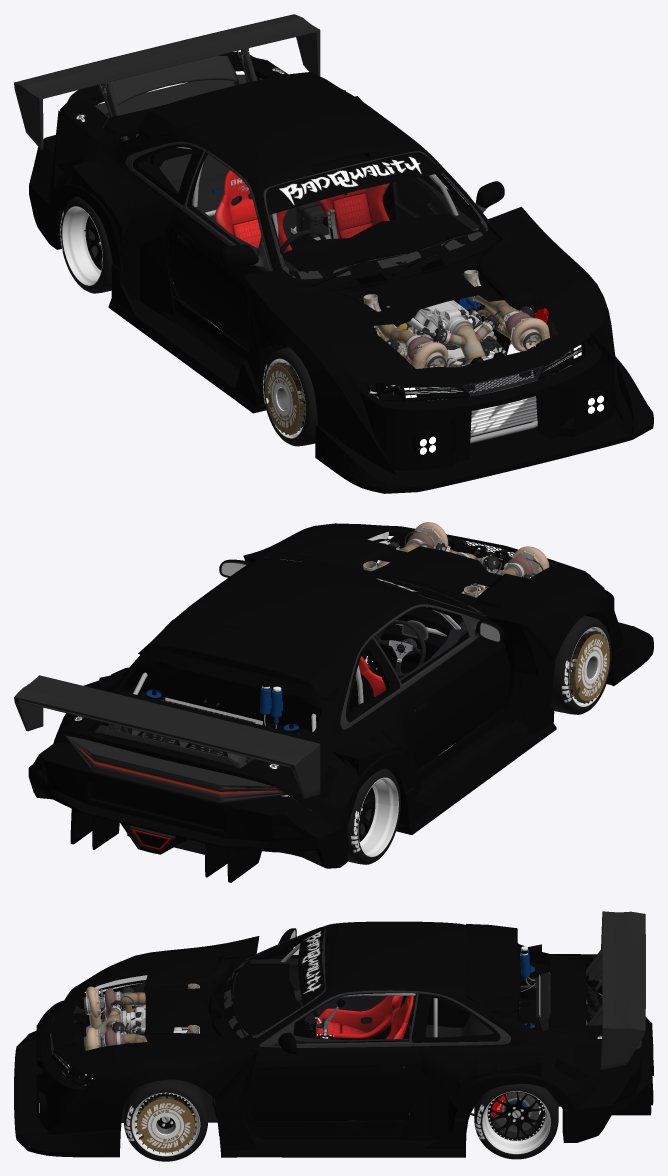
Rendered from nissan_s14_drift.glb.
The picture shows the model from 3 angles, top to bottom: view 1: azimuth 30°, elevation 25°; view 2: azimuth 150°, elevation 25°; view 3: azimuth 270°, elevation 25°; orthographic projection. The views are drawn at different scales.
Parts seen in each view (by area): view 1: frontend_20, _S14KOUKI_BODY_CARPAINT_233, glassf_a_SUB1_64, _S14KOUKI_BUMPER_F_DMAX_CARPAINT_232, bug_veyronss_11_lod0_winga_carbon_fiber__SUB0_208, Box012_180, rearfenders_34, Dash_190, sideskirt_76, roofspoiler_201, glassflivery_a_SUB1_218, body_a_41 (+34 smaller); view 2: _S14KOUKI_BODY_CARPAINT_233, frontend_20, rearbumper_234, bug_veyronss_11_lod0_winga_carbon_fiber__SUB0_208, roofspoiler_201, rearfenders_34, body_a_SUB5_174, taillighthousing_101, sideskirt_76, Box013_102, Box014_3, _S14KOUKI_SKIRT_CARPAINT_224 (+20 smaller); view 3: _S14KOUKI_BODY_CARPAINT_233, frontend_20, rearfenders_34, bug_veyronss_11_lod0_winga_carbon_fiber__SUB0_208, sideskirt_76, rearbumper_234, Box012_180, glassf_a_SUB1_64, roofspoiler_201, Dash_190, _S14KOUKI_BUMPER_F_DMAX_CARPAINT_232, trunkcover_142 (+36 smaller).
Boxes of the visible parts, x1,y1,x2,y2 form: frontend_20: (243, 207, 623, 475); _S14KOUKI_BODY_CARPAINT_233: (102, 90, 487, 349); glassf_a_SUB1_64: (269, 173, 480, 271); _S14KOUKI_BUMPER_F_DMAX_CARPAINT_232: (359, 334, 614, 470); bug_veyronss_11_lod0_winga_carbon_fiber__SUB0_208: (14, 14, 320, 149); Box012_180: (315, 356, 653, 493); rearfenders_34: (49, 60, 287, 323); Dash_190: (282, 213, 472, 279); sideskirt_76: (108, 263, 266, 413); roofspoiler_201: (135, 72, 345, 141); glassflivery_a_SUB1_218: (266, 152, 442, 214); body_a_41: (294, 230, 488, 290); _S14KOUKI_BODY_CARPAINT_233: (117, 558, 510, 769); frontend_20: (243, 523, 623, 735); rearbumper_234: (28, 743, 347, 882); bug_veyronss_11_lod0_winga_carbon_fiber__SUB0_208: (14, 675, 320, 798); roofspoiler_201: (135, 616, 345, 711); rearfenders_34: (53, 679, 422, 827); body_a_SUB5_174: (102, 654, 336, 734); taillighthousing_101: (65, 735, 287, 802); sideskirt_76: (396, 695, 556, 834); Box013_102: (60, 716, 288, 786); Box014_3: (83, 667, 408, 776); _S14KOUKI_SKIRT_CARPAINT_224: (415, 696, 511, 798); _S14KOUKI_BODY_CARPAINT_233: (247, 921, 573, 1120); frontend_20: (45, 936, 260, 1146); rearfenders_34: (400, 954, 608, 1144); bug_veyronss_11_lod0_winga_carbon_fiber__SUB0_208: (586, 911, 645, 1070); sideskirt_76: (219, 1031, 468, 1157); rearbumper_234: (562, 980, 653, 1142); Box012_180: (14, 1030, 120, 1157); glassf_a_SUB1_64: (233, 934, 302, 1035); roofspoiler_201: (466, 924, 520, 1020); Dash_190: (234, 963, 374, 1040); _S14KOUKI_BUMPER_F_DMAX_CARPAINT_232: (36, 991, 118, 1130); trunkcover_142: (550, 954, 585, 1033).
Bounding box in the file's own units: 2.23 × 1.24 × 4.66.
77 materials, 59 textured.
